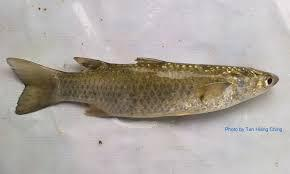Mullet: (6, 51, 280, 121)
